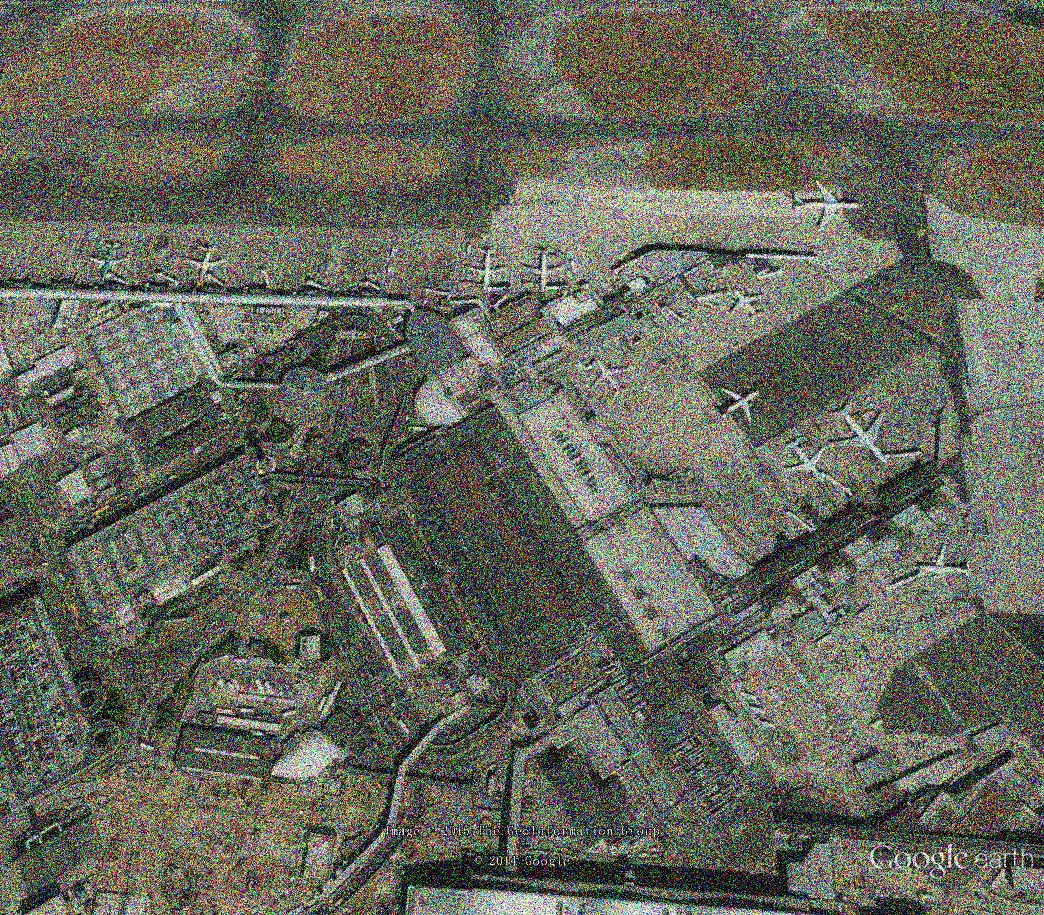aircraft: (826, 397, 896, 471), (788, 178, 868, 235), (915, 541, 978, 599), (520, 245, 571, 298), (779, 436, 829, 485), (465, 246, 510, 296), (714, 386, 764, 429), (589, 355, 634, 401), (182, 243, 230, 284), (86, 239, 133, 280), (728, 286, 768, 325)
